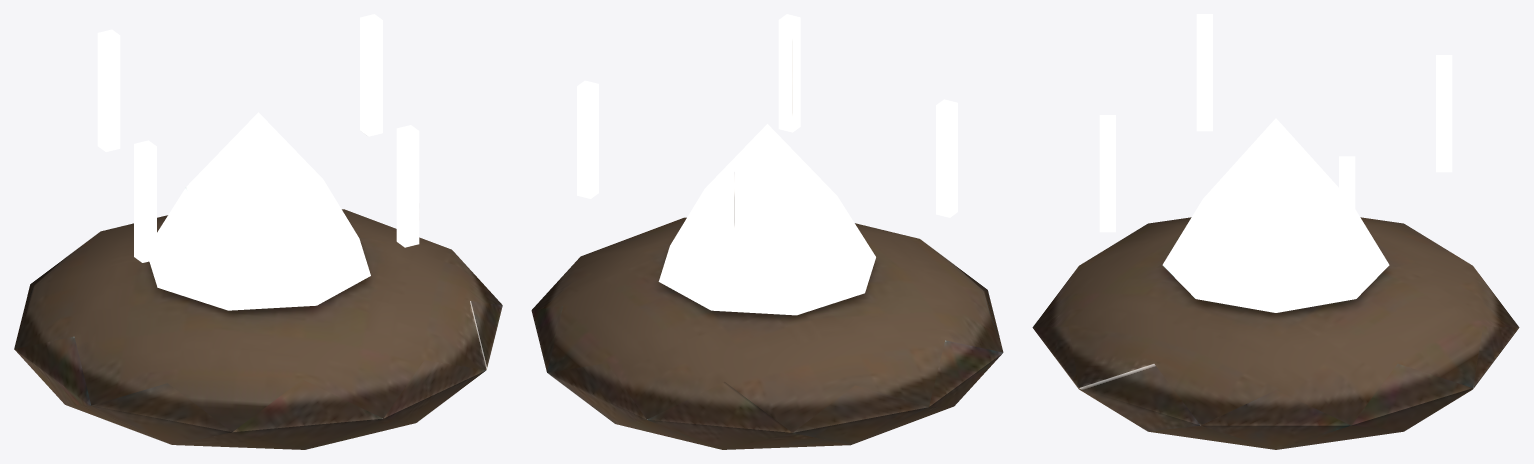
Rendered from brillo_diamante.glb.
3 renders of one model, left to right at view 1: azimuth 30°, elevation 25°; view 2: azimuth 150°, elevation 25°; view 3: azimuth 270°, elevation 25°, orthographic. The views are drawn at different scales.
Visible parts, largest first — view 1: brillo_diamante; view 2: brillo_diamante; view 3: brillo_diamante.
Part boxes in pixels (x1=…): brillo_diamante: x1=14, y1=14, x2=502, y2=449; brillo_diamante: x1=531, y1=14, x2=1003, y2=449; brillo_diamante: x1=1032, y1=14, x2=1519, y2=449.
Size of the model in its own units: 1.14 by 0.83 by 1.2.
Materials: 1 (1 with a texture image).
